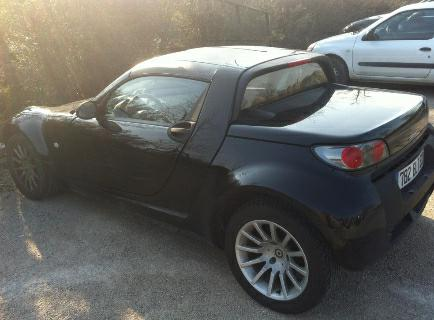smart-roadster: (0, 35, 434, 306)
